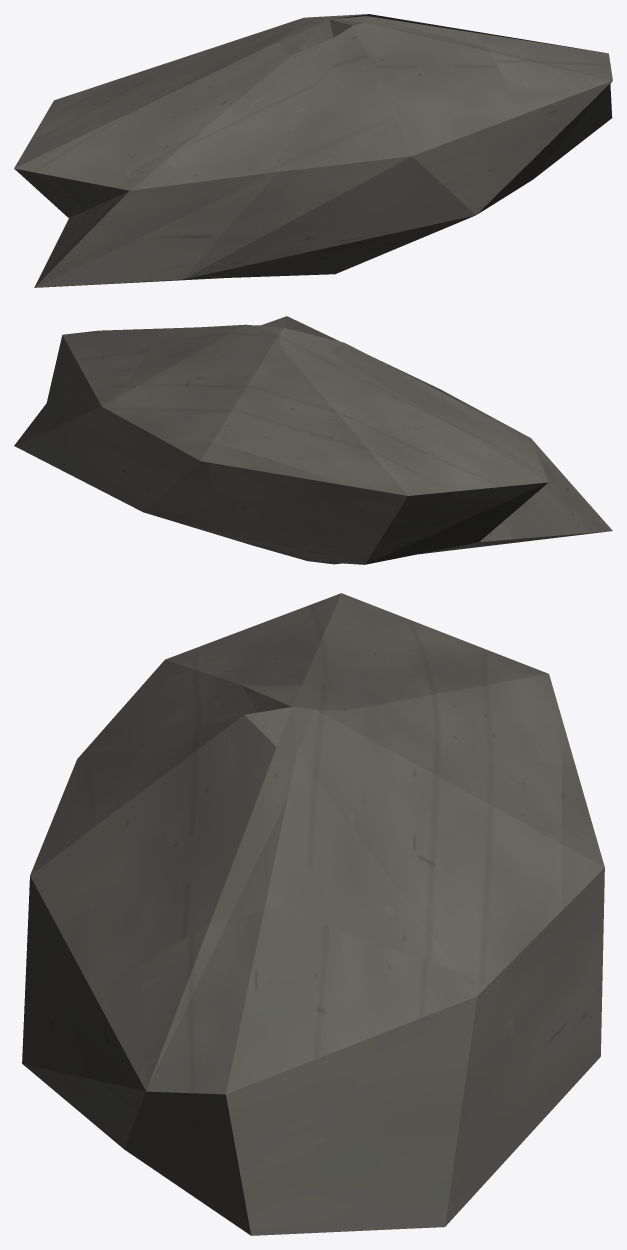
Rendered from DecorativeRockHalfBoulder.glb.
3 views of the same model, one above another, from view 1: azimuth 30°, elevation 25°; view 2: azimuth 150°, elevation 25°; view 3: azimuth 270°, elevation 25° (orthographic). The views are drawn at different scales.
Visible parts, largest first — view 1: DecorativeRockHalfBoulder; view 2: DecorativeRockHalfBoulder; view 3: DecorativeRockHalfBoulder.
Part boxes in pixels (bbox=[...]): DecorativeRockHalfBoulder: bbox=[14, 14, 612, 287]; DecorativeRockHalfBoulder: bbox=[14, 316, 612, 564]; DecorativeRockHalfBoulder: bbox=[22, 593, 604, 1235].
Size of the model in its own units: 1.94 by 0.7657 by 0.895.
3 materials, 3 textured.
